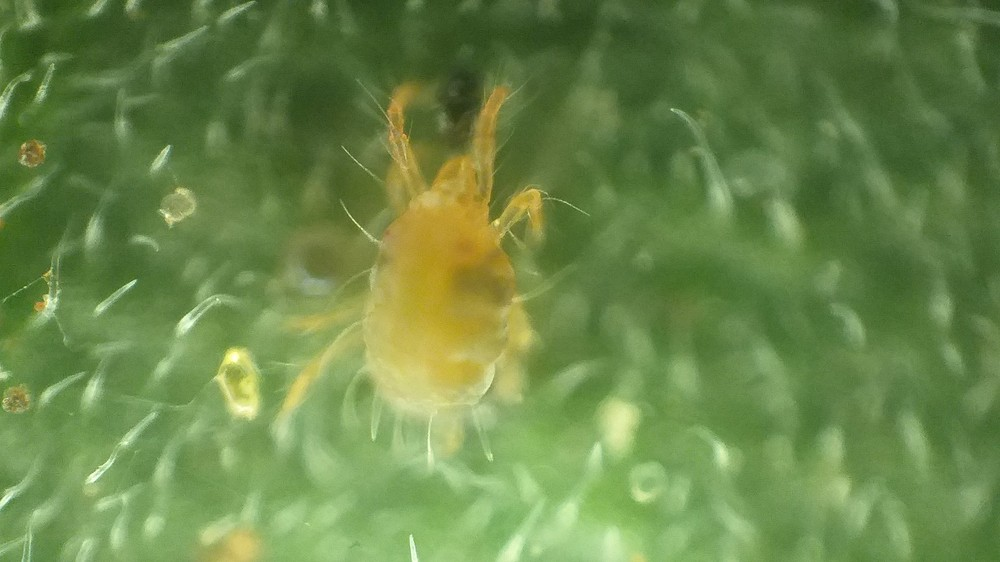Aracnido Rojo: (266, 67, 620, 508)
